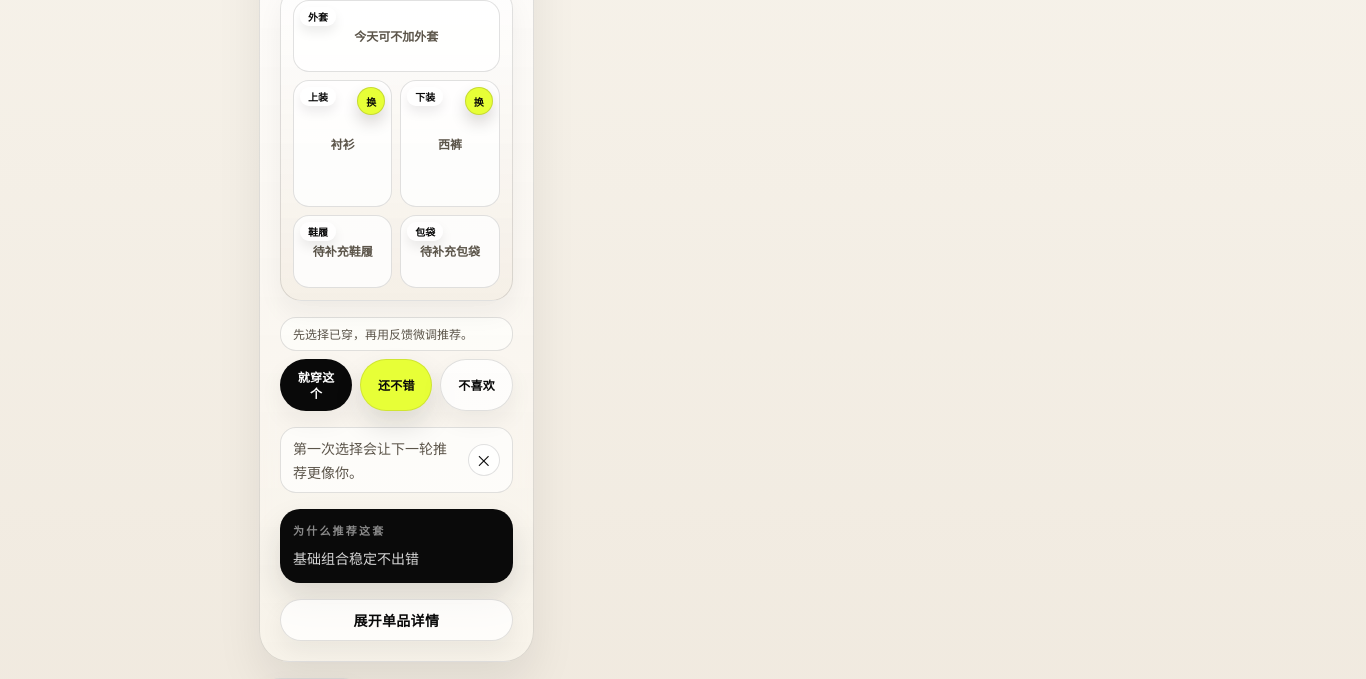
Test case: TodayPage › records a positive quick rating as preference feedback
(page scrolled)
Click the button "还不错" at (396, 385), box [360,359,432,411]
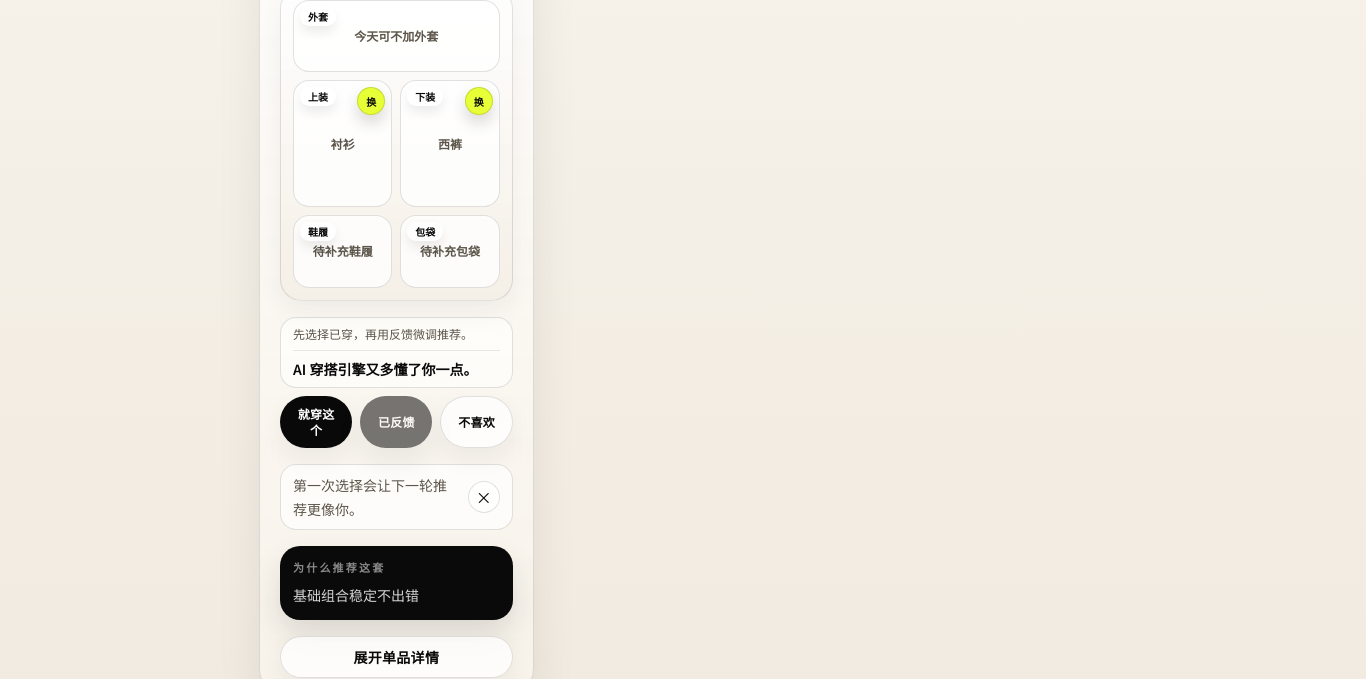
Now the text "AI 穿搭引擎又多懂了你一点。" is shown, box [293,350,500,379]
Now the button "已反馈" is disabled, box [360,396,432,448]
Now the button "还不错" is gone
